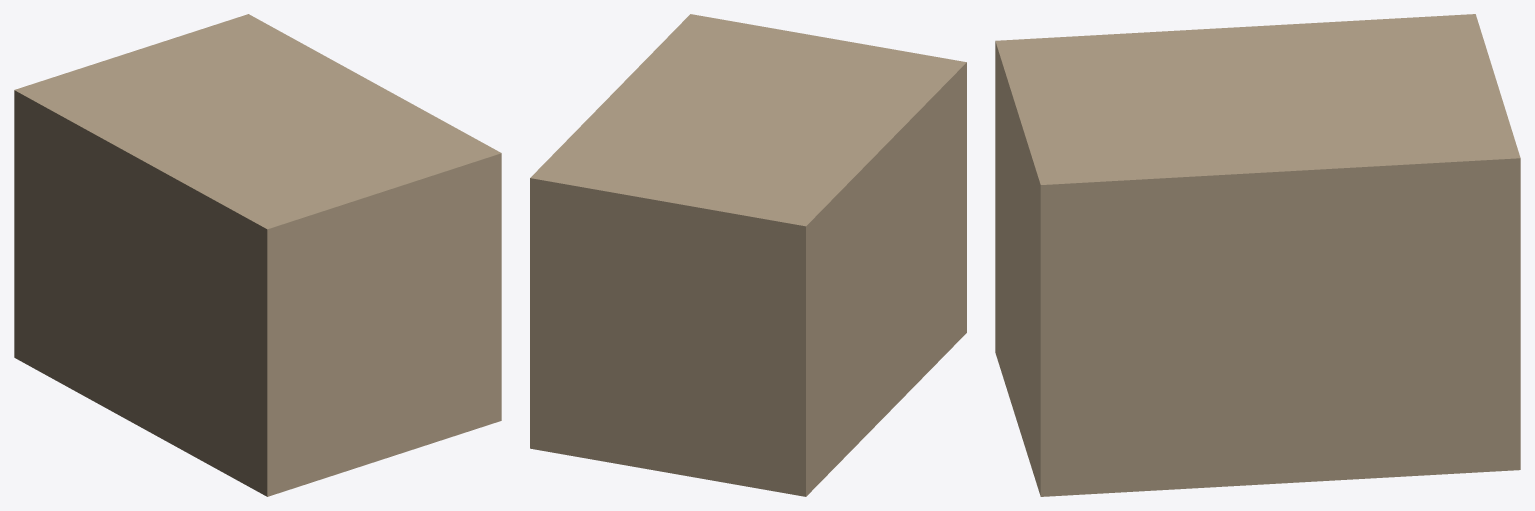
The model's file is bld_107638982.dae.
The picture shows the model from 3 angles, left to right: view 1: azimuth 30°, elevation 25°; view 2: azimuth 150°, elevation 25°; view 3: azimuth 270°, elevation 25°; orthographic projection. The views are drawn at different scales.
Visible parts, largest first — view 1: bld_107638982; view 2: bld_107638982; view 3: bld_107638982.
Boxes of the visible parts, x1,y1,x2,y2 form: bld_107638982: (14,14,501,496); bld_107638982: (530,14,966,496); bld_107638982: (995,14,1520,496).
Size of the model in its own units: 9.42 by 12.21 by 8.
